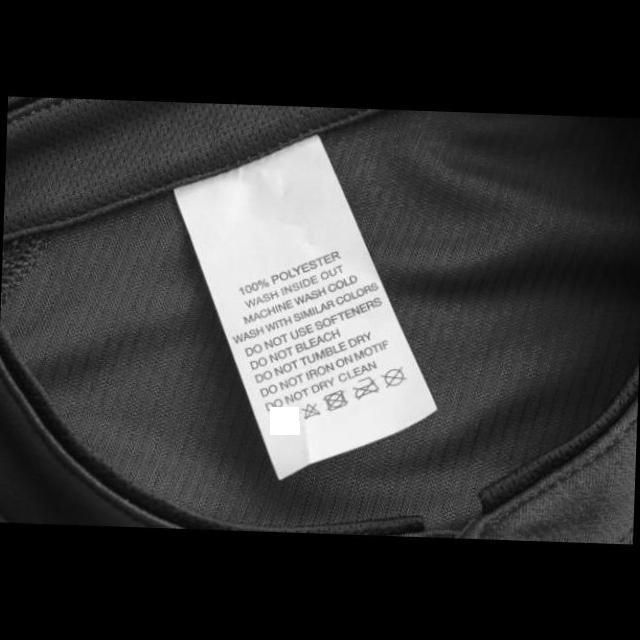DN_bleach: (299, 400, 323, 421)
DN_dry_clean: (379, 365, 408, 392)
DN_iron: (349, 374, 382, 402)
DN_tumble_dry: (320, 388, 350, 413)
